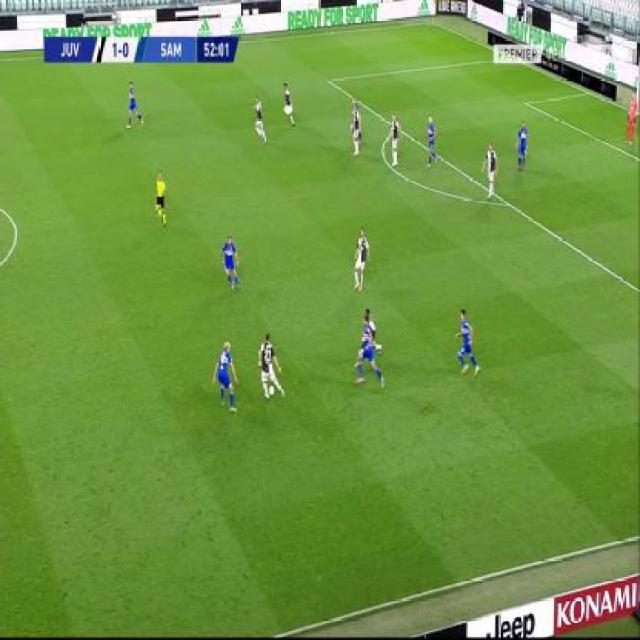ball: (269, 382, 275, 395)
player: (353, 308, 386, 393), (212, 338, 240, 414), (453, 306, 481, 379), (257, 331, 285, 402), (219, 233, 241, 292), (352, 225, 371, 291), (125, 79, 145, 130), (482, 141, 499, 200), (153, 168, 169, 228), (251, 93, 267, 144), (625, 86, 638, 146), (281, 81, 297, 129), (516, 118, 530, 172), (388, 111, 402, 165), (425, 115, 438, 169), (351, 101, 362, 158)
